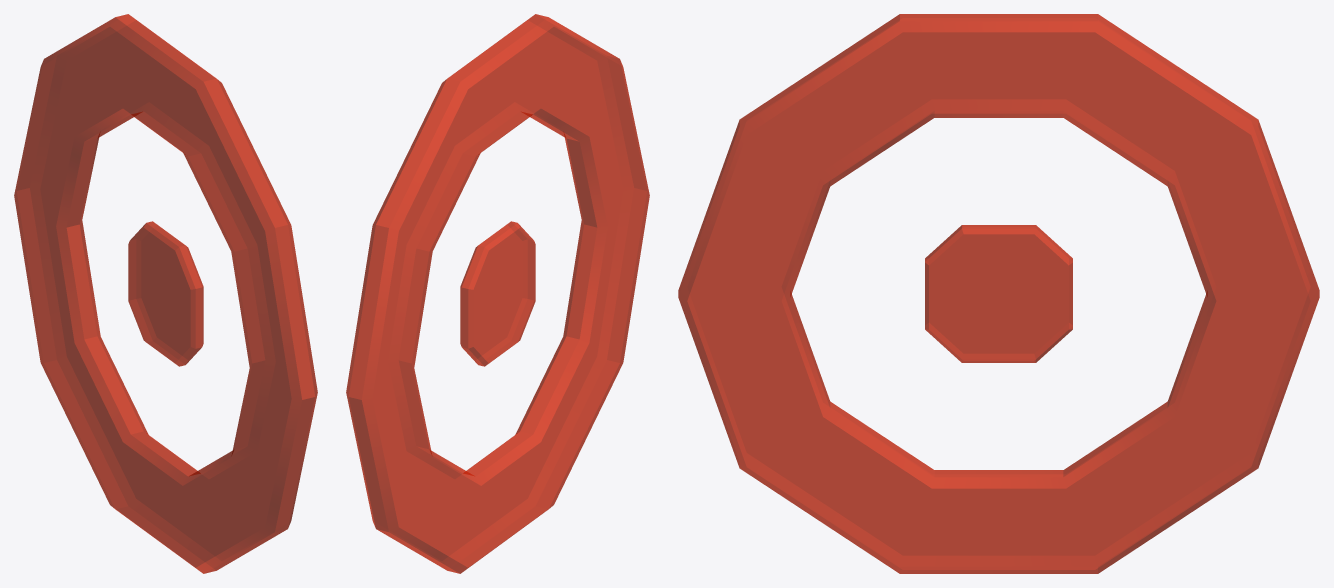
The model's file is SparkIcon.fbx.
The picture shows the model from 3 angles, left to right: view 1: azimuth 30°, elevation 25°; view 2: azimuth 150°, elevation 25°; view 3: azimuth 270°, elevation 25°; orthographic projection. The views are drawn at different scales.
Parts seen in each view (by area): view 1: SparkIcon; view 2: SparkIcon; view 3: SparkIcon.
Boxes of the visible parts, x1=… form: SparkIcon: x1=14, y1=14, x2=317, y2=573; SparkIcon: x1=346, y1=14, x2=649, y2=573; SparkIcon: x1=678, y1=14, x2=1319, y2=573.
Size of the model in its own units: 1 by 17.94 by 18.87.
